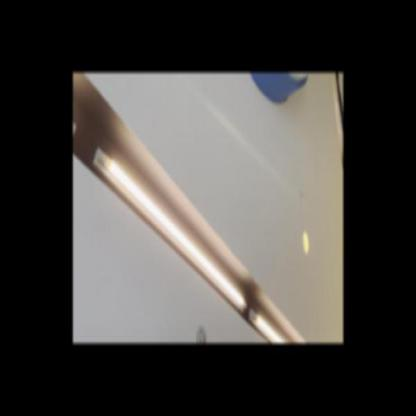light_on: (88, 146, 246, 314), (250, 310, 286, 343)
